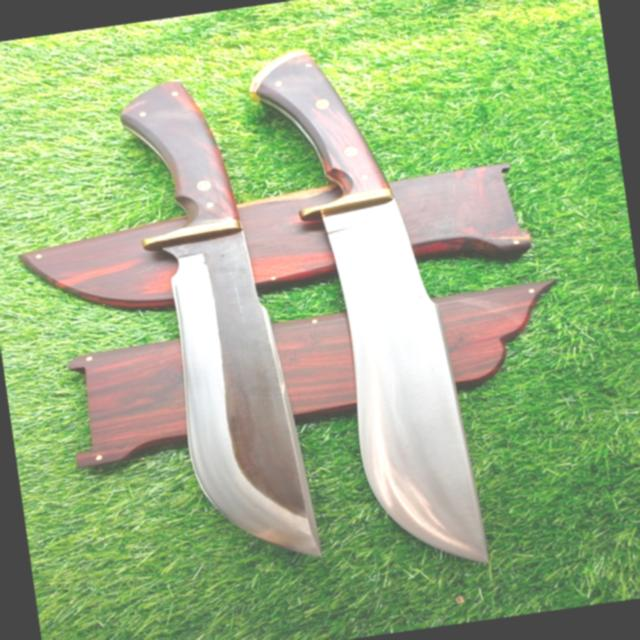eto: (237, 35, 500, 573), (95, 73, 332, 568)
